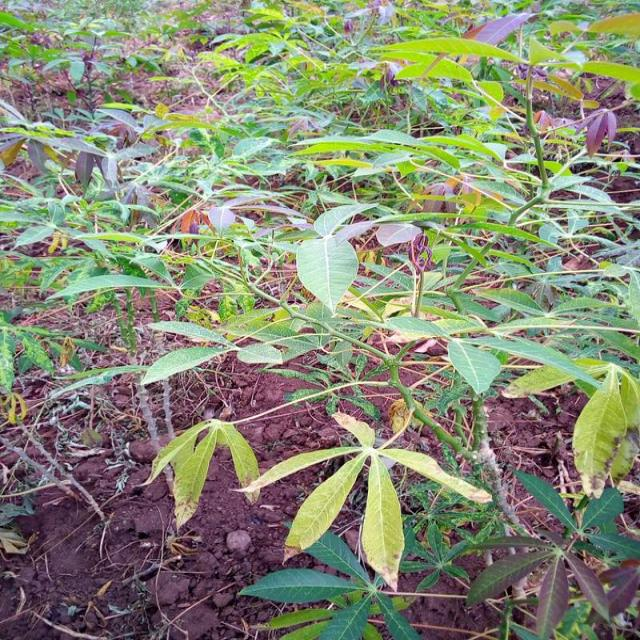cassava leaf: (572, 363, 638, 498), (360, 451, 405, 591), (296, 232, 358, 316), (446, 337, 501, 396)
